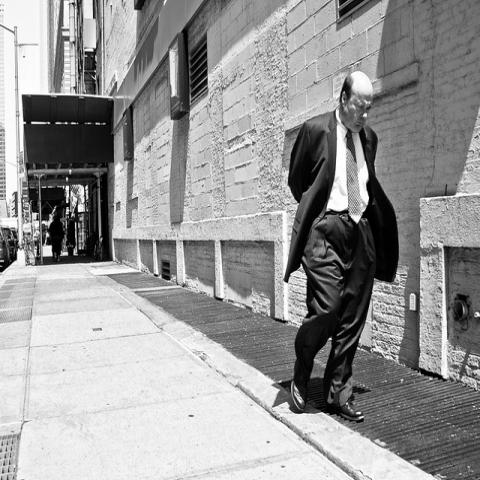car: (1, 228, 18, 262), (0, 225, 11, 268), (10, 229, 18, 240)
